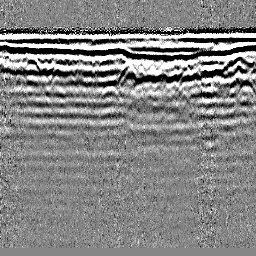cavity: (117, 61, 138, 82)
